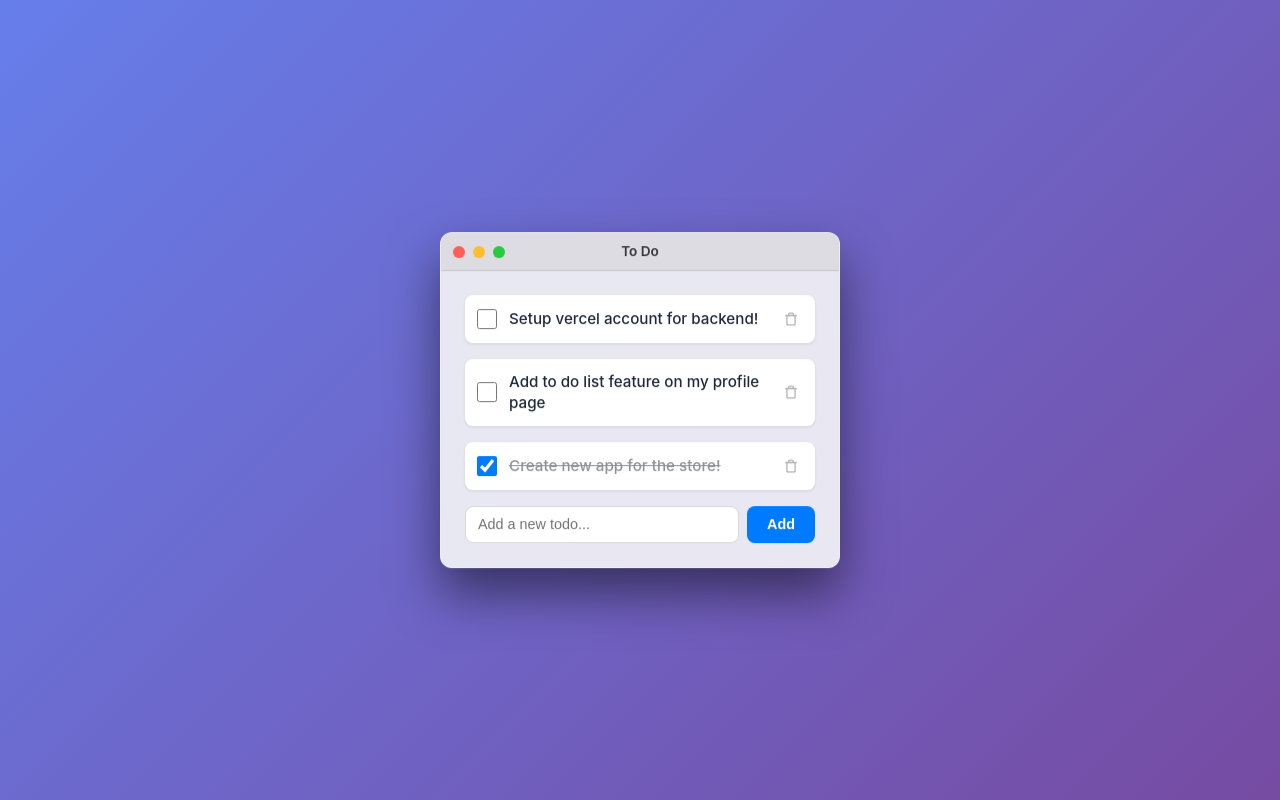
Test: TodoList › save button › disappears after toggling back to original state
Click the checkbox next to "Setup vercel account for backend!" at (487, 319), box [477,309,497,329]
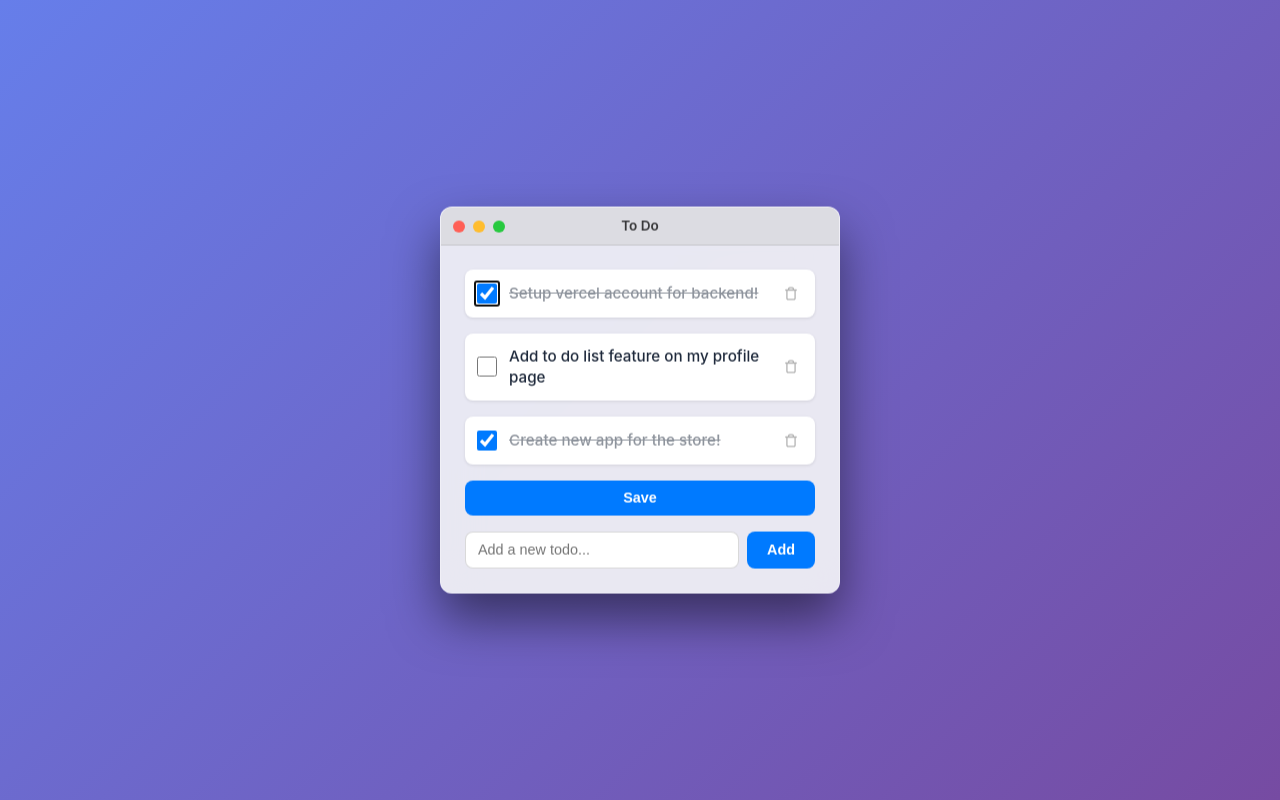
Expected: the button "Save" is shown, [465,480,815,515]
Click the checkbox next to "Setup vercel account for backend!" at (487, 294), box [477,284,497,304]
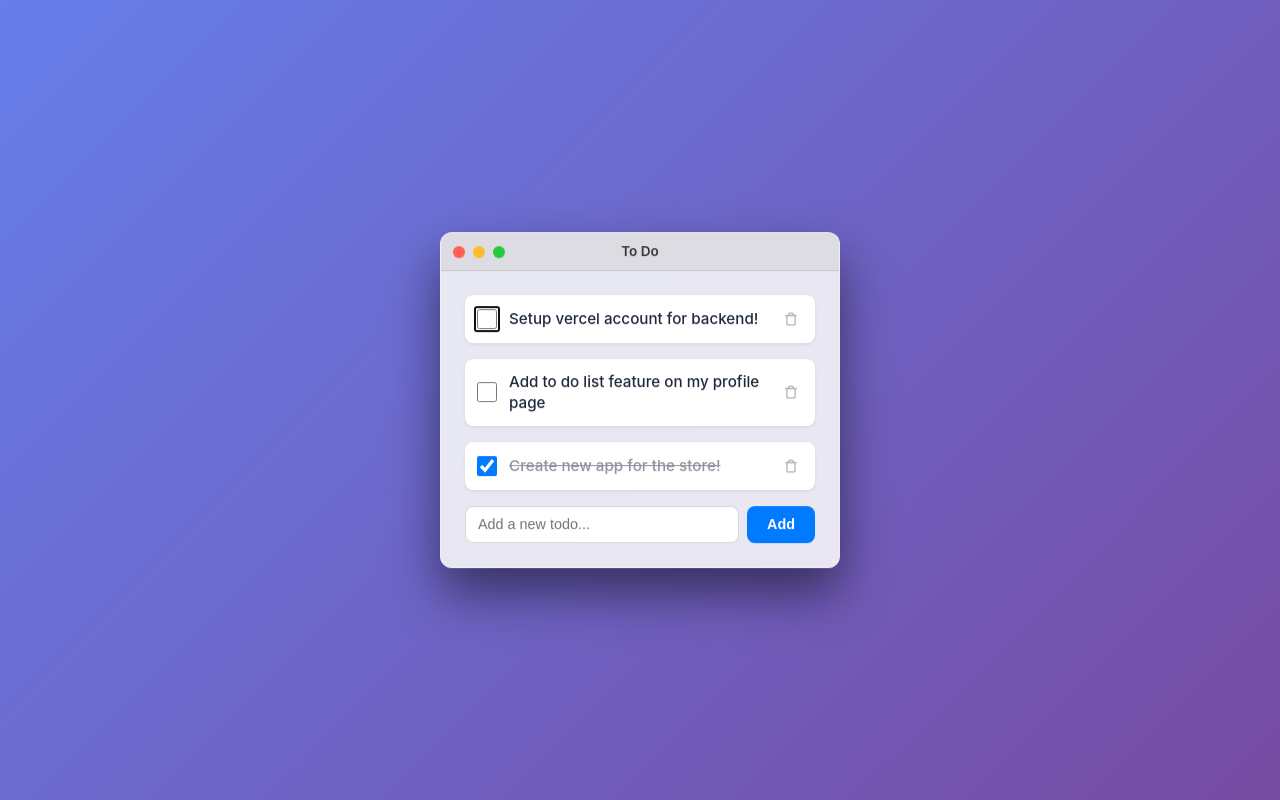
Expected: the button "Save" is gone
